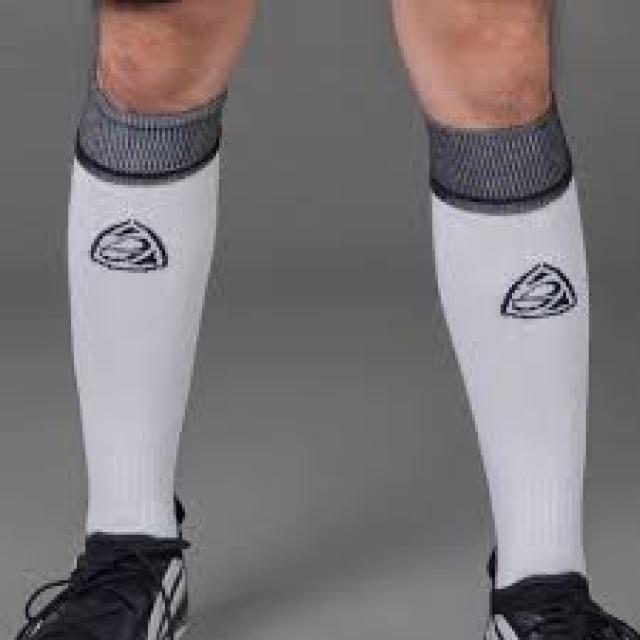bracelet: (64, 79, 253, 555)
sock: (372, 102, 628, 576)
